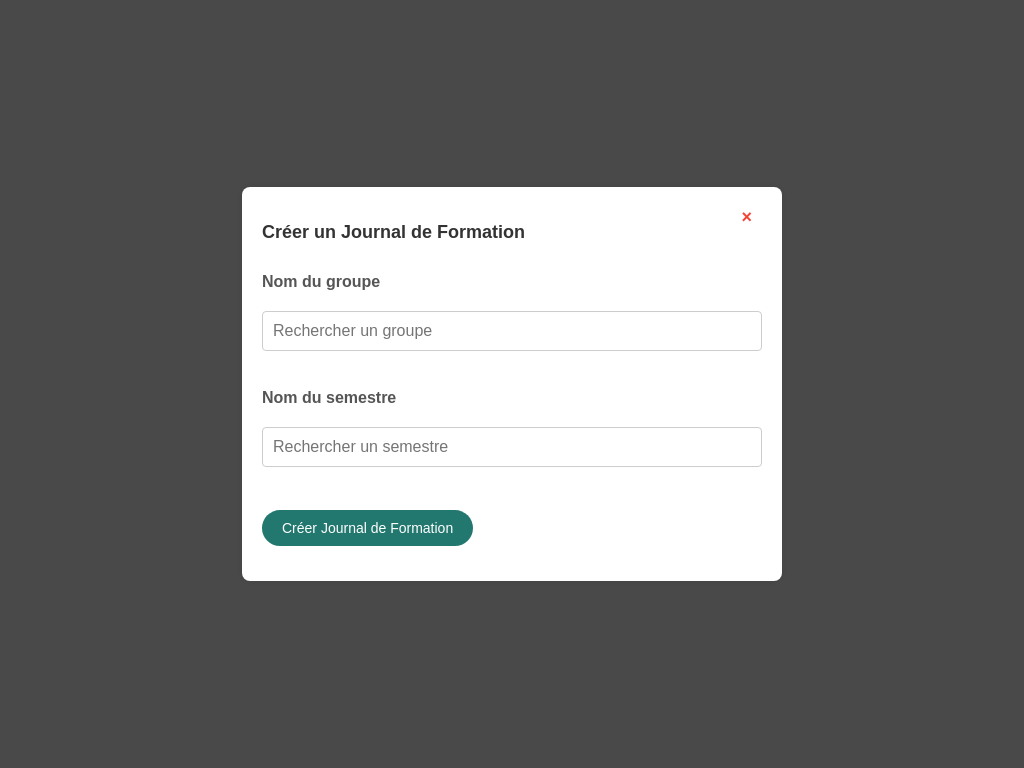
Test case: JournalDeFormationForm › displays suggestions in autocomplete when typing in the input
The image size is (1024, 768).
// Simuler la saisie dans le champ de recherche
Type "Groupe" into the field with placeholder "Rechercher un groupe".
click(512, 331); type("Groupe")  # box [262, 311, 762, 351]
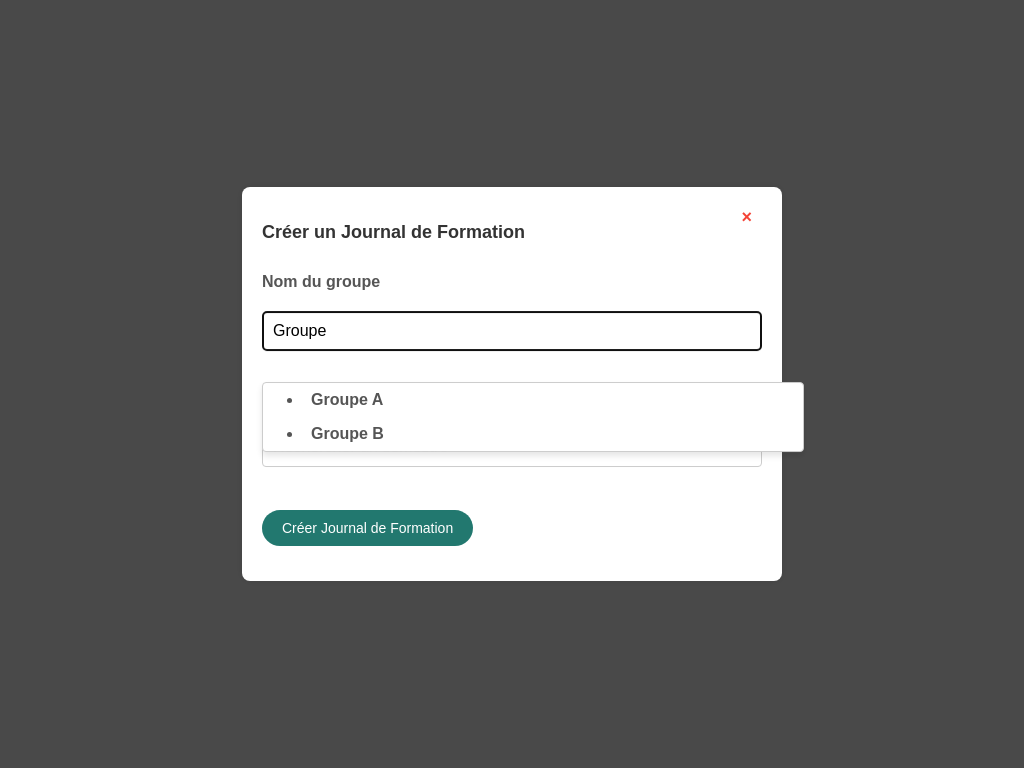
Now the list item "Groupe A" is shown, box [311, 391, 383, 408]
Now the list item "Groupe B" is shown, box [311, 425, 384, 442]
